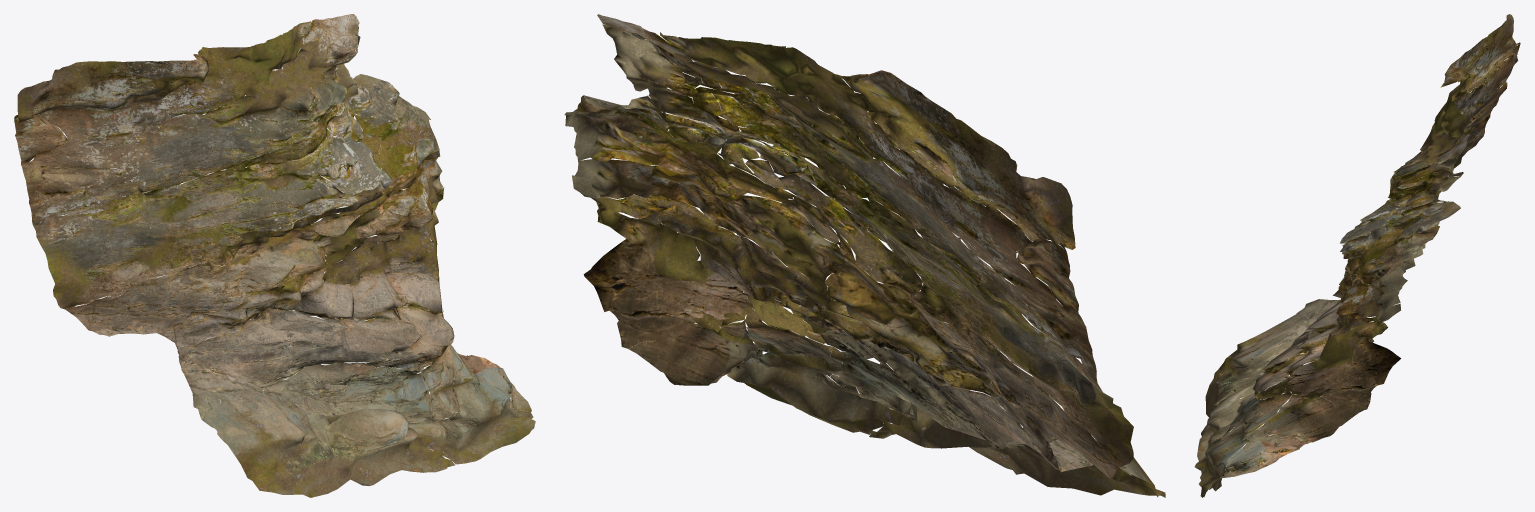
File: rock_face_02_LOD1.fbx
3 views of the same model, side by side, from view 1: azimuth 30°, elevation 25°; view 2: azimuth 150°, elevation 25°; view 3: azimuth 270°, elevation 25° (orthographic). The views are drawn at different scales.
Parts seen in each view (by area): view 1: rock_face_02.001; view 2: rock_face_02.001; view 3: rock_face_02.001.
Boxes of the visible parts, box(x1,y1,x2,y2) form: rock_face_02.001: box(14, 14, 535, 497); rock_face_02.001: box(564, 14, 1165, 497); rock_face_02.001: box(1194, 14, 1520, 497).
Bounding box in the file's own units: 2.71 × 2.48 × 2.13.
1 material, 1 textured.
